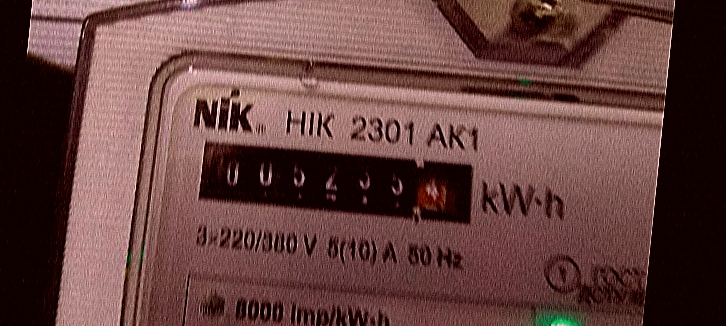0: (255, 154, 278, 189), (223, 155, 244, 188)
2: (320, 158, 345, 194)
3: (353, 159, 380, 194)
4: (421, 166, 446, 204)
5: (386, 161, 412, 199), (289, 156, 311, 190)
screen: (181, 122, 490, 239)
